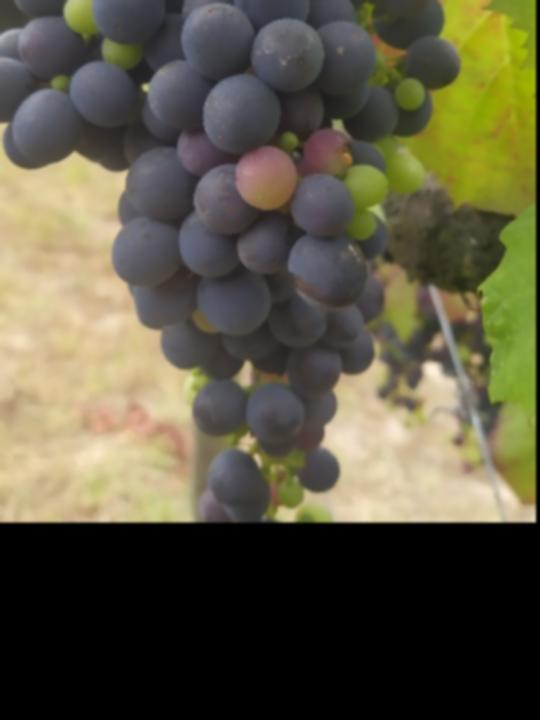grape: (0, 0, 459, 653)
